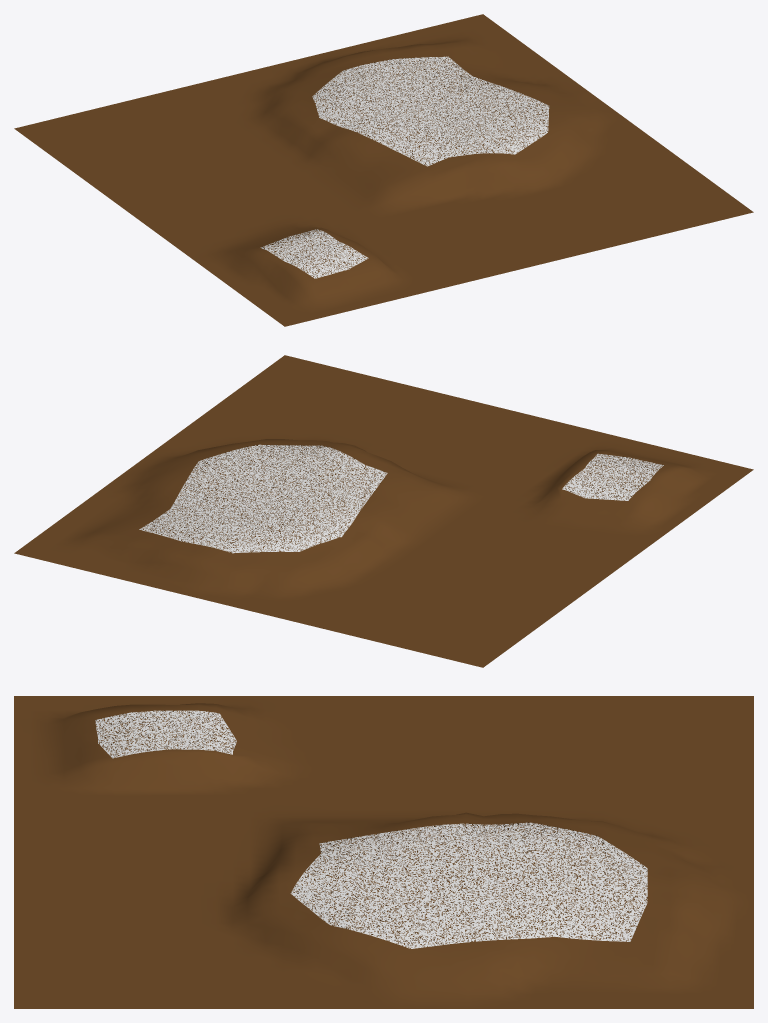
Rendered from demoMap.fbx.
3 views of the same model, one above another, from view 1: azimuth 30°, elevation 25°; view 2: azimuth 150°, elevation 25°; view 3: azimuth 270°, elevation 25° (orthographic). The views are drawn at different scales.
Parts seen in each view (by area): view 1: Plane.001, Plane.006; view 2: Plane.001, Plane.006; view 3: Plane.001, Plane.006.
Boxes of the visible parts, left/top/right/bottom form: Plane.001: left=14, top=14, right=753, bottom=326; Plane.006: left=260, top=56, right=549, bottom=278; Plane.001: left=14, top=355, right=753, bottom=667; Plane.006: left=141, top=444, right=662, bottom=552; Plane.001: left=14, top=696, right=753, bottom=1008; Plane.006: left=95, top=710, right=648, bottom=948.
Size of the model in its own units: 60.09 by 2.73 by 60.09.
